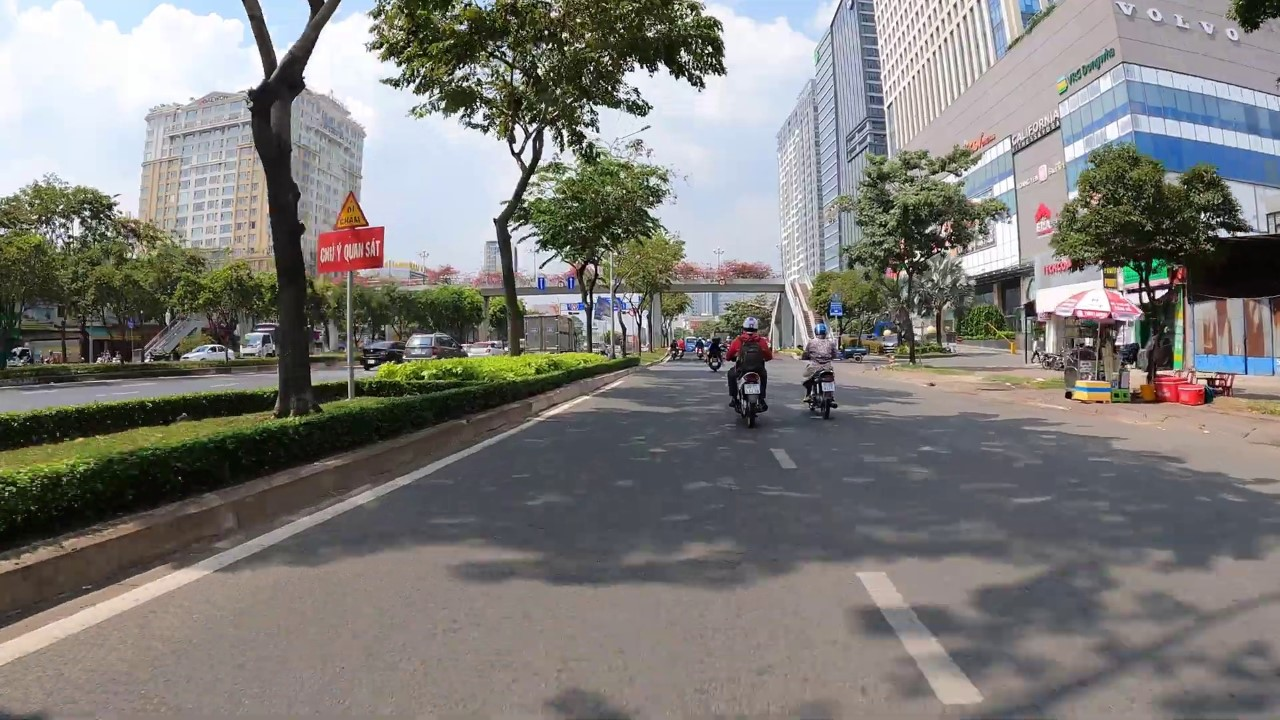di_cham: (332, 191, 370, 231)
